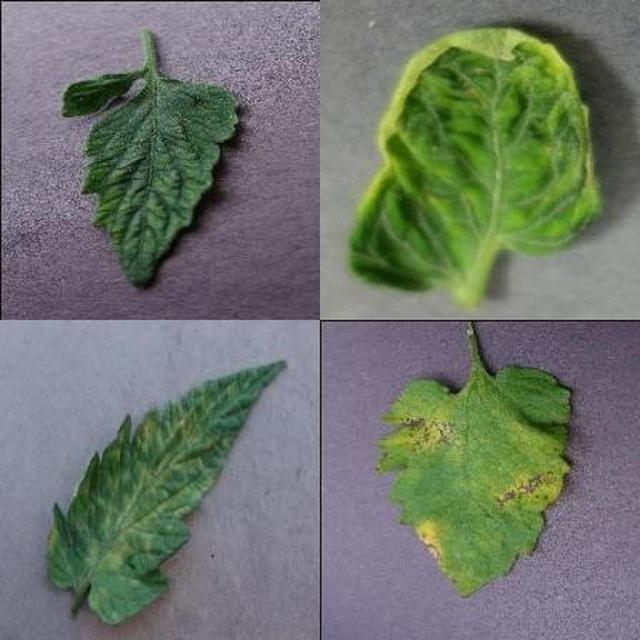Mosaic Virus Leaf: (216, 229, 640, 640)
